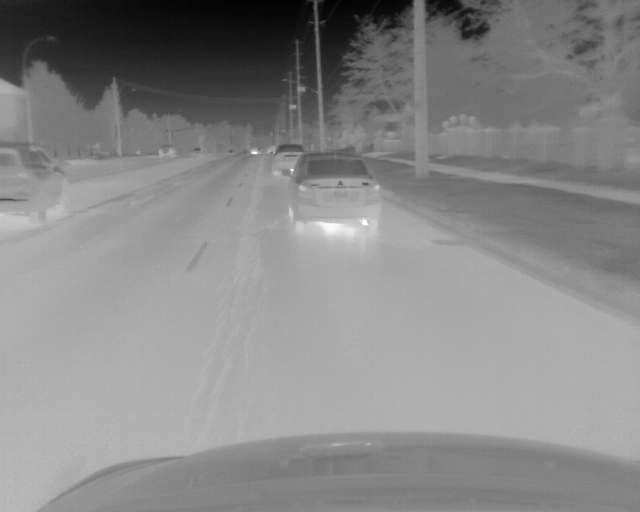car: (280, 153, 380, 233), (1, 143, 69, 226), (270, 144, 303, 172), (159, 146, 175, 159)
